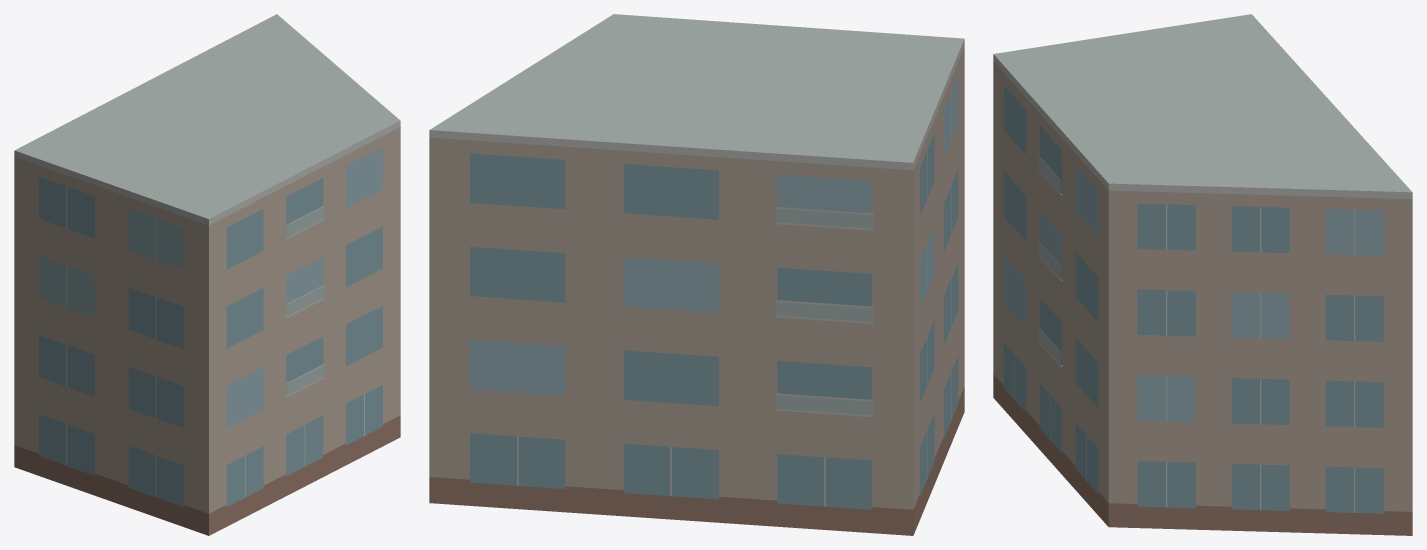
File: survey-upis-32983454.glb
3 views of the same model, side by side, from view 1: azimuth 30°, elevation 25°; view 2: azimuth 150°, elevation 25°; view 3: azimuth 270°, elevation 25° (orthographic). The views are drawn at different scales.
Visible parts, largest first — view 1: survey-upis-32983454.tmp; view 2: survey-upis-32983454.tmp; view 3: survey-upis-32983454.tmp.
Part boxes in pixels (x1,y1,x2,y2): survey-upis-32983454.tmp: (14, 14, 400, 535); survey-upis-32983454.tmp: (429, 14, 964, 535); survey-upis-32983454.tmp: (993, 14, 1412, 535).
Size of the model in its own units: 13.59 by 12.2 by 13.5.
